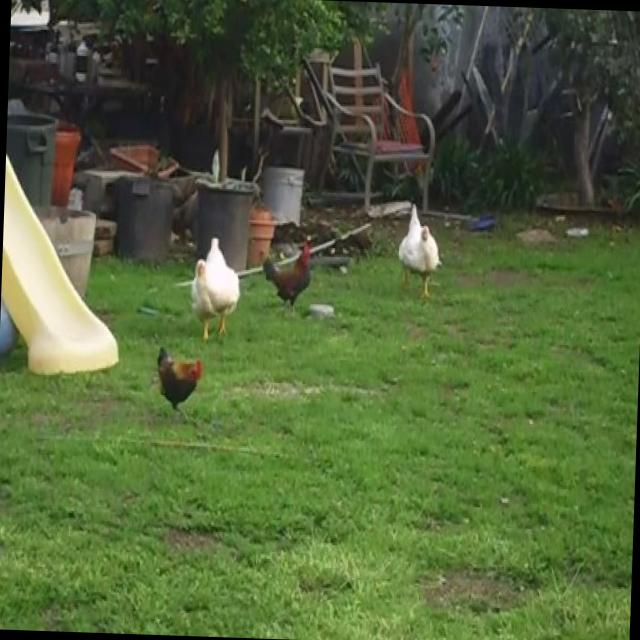running: (182, 234, 244, 342), (396, 193, 446, 304)
walking: (153, 348, 213, 418), (264, 233, 312, 313)
